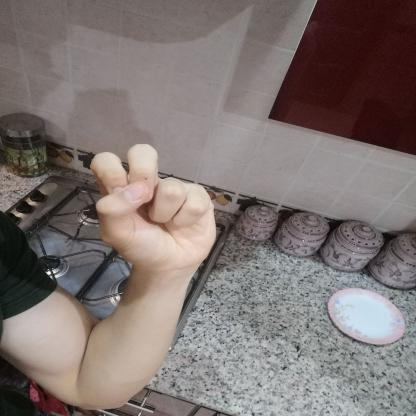QAAF: (75, 137, 229, 281)
